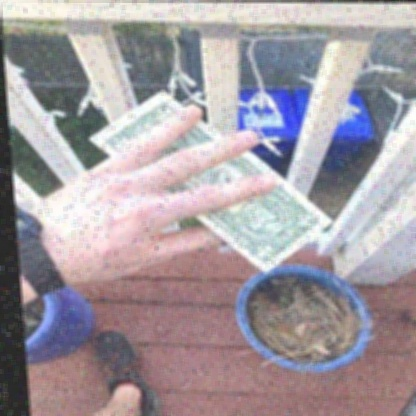one-back: (88, 92, 332, 271)
